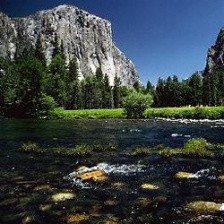neutral: (3, 2, 223, 223)
